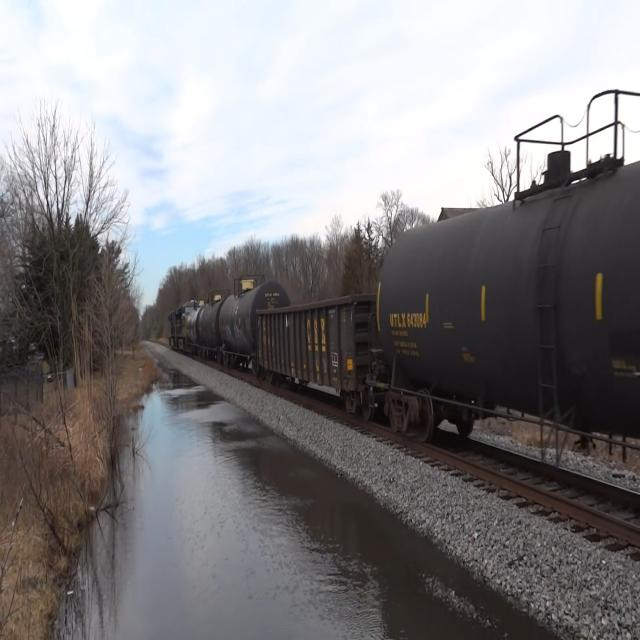gondola: (254, 287, 377, 418)
tank: (374, 86, 640, 518), (217, 275, 290, 378)
